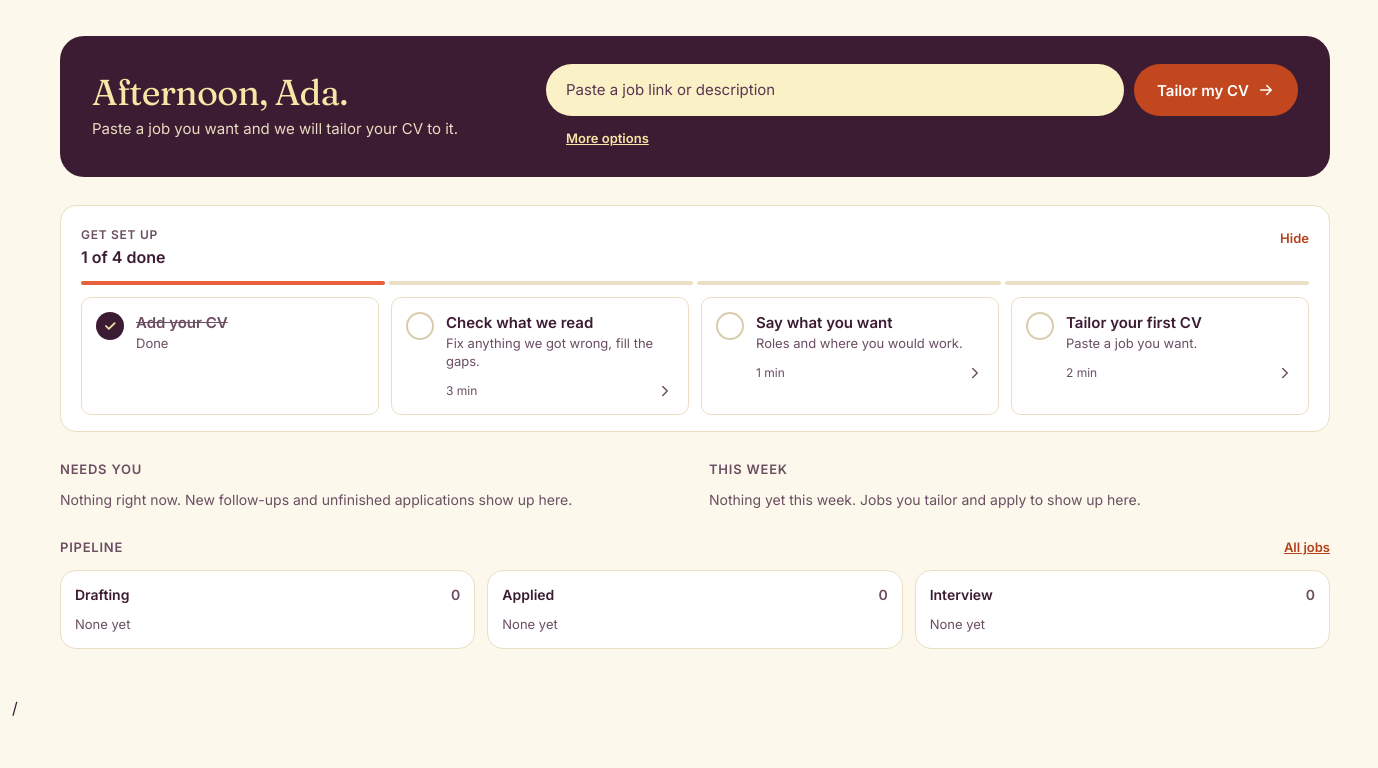
it: HomePage › hides the setup card through the API, so it stays hidden everywhere
Click the button "Hide" at (1295, 238), box top-left (1272, 216), bottom-right (1317, 260)
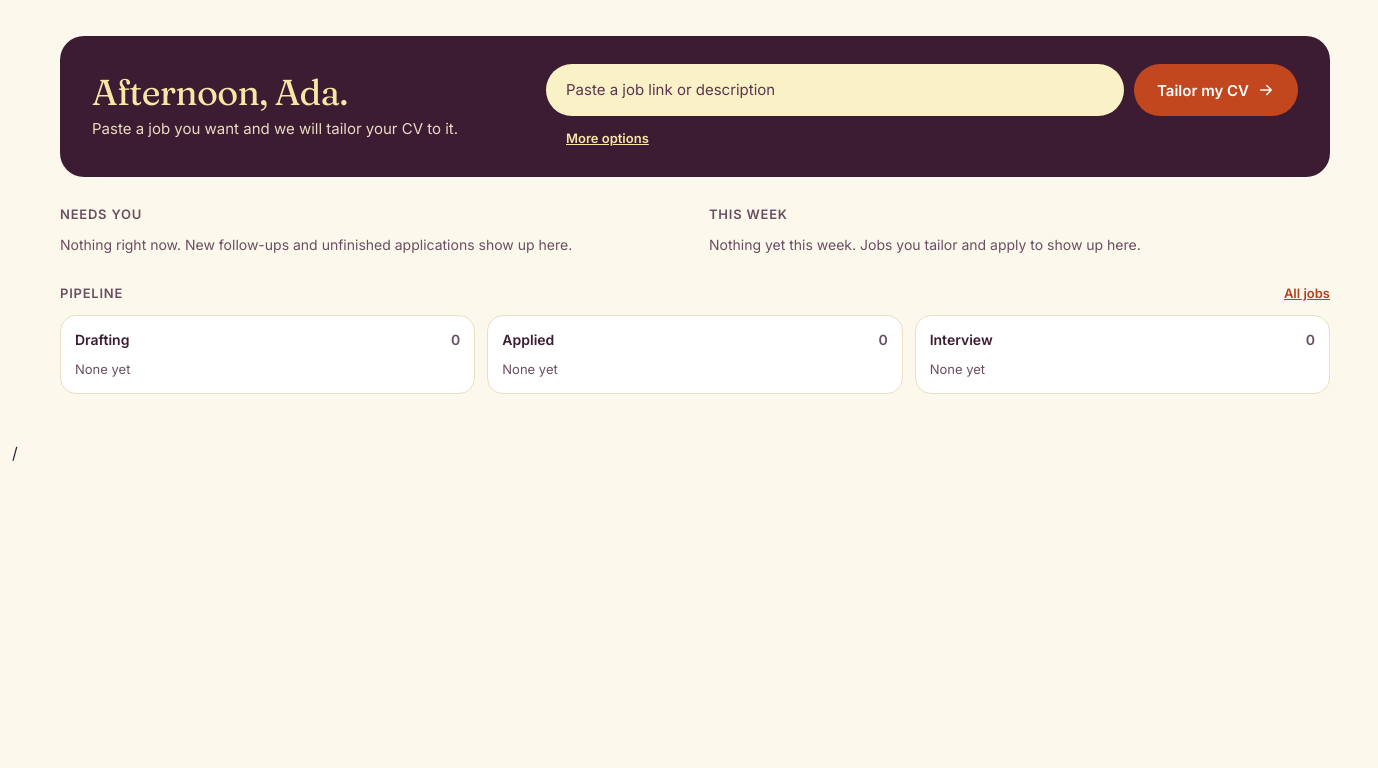
Expected: the heading "Get set up" is gone
